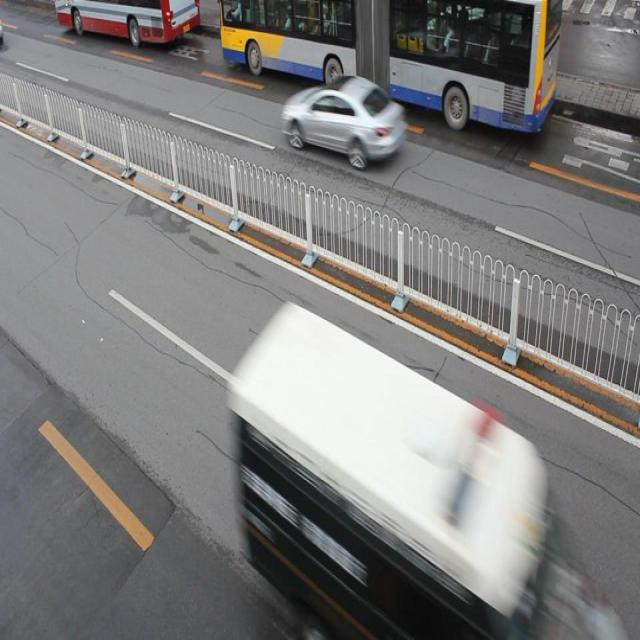car: (281, 72, 406, 170)
truck: (232, 306, 624, 640)
van: (218, 1, 559, 133), (56, 1, 200, 46)
